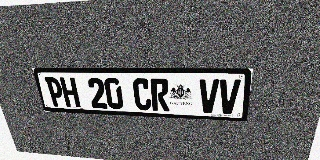0: (103, 78, 124, 109)
2: (87, 78, 107, 109)
C: (132, 78, 152, 110)
H: (59, 77, 81, 107)
P: (44, 77, 66, 107)
R: (150, 78, 169, 111)
V: (218, 79, 241, 114), (199, 79, 219, 113)
